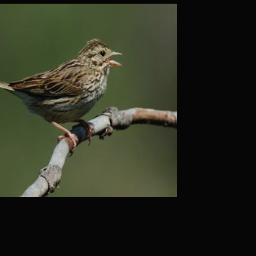Sparrow: (0, 37, 125, 157)
